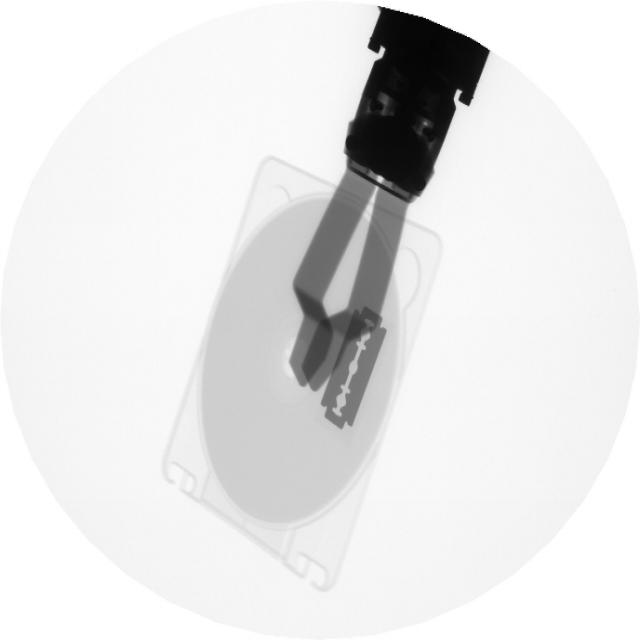BLADE: (316, 301, 396, 440)
